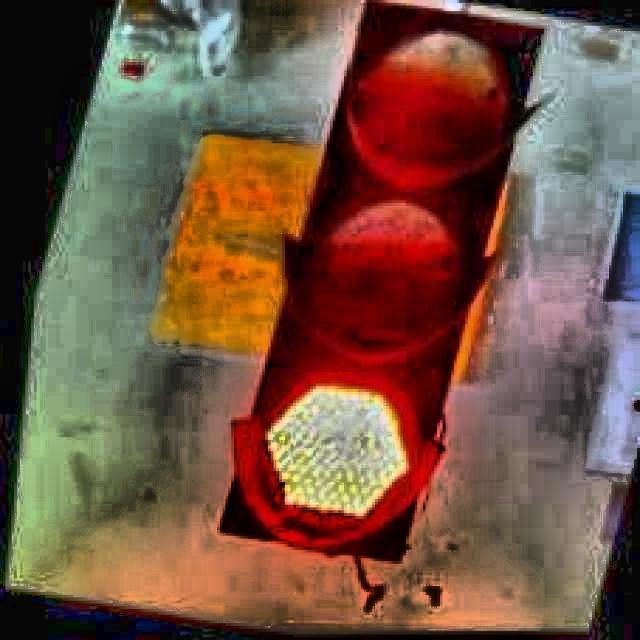red: (204, 1, 546, 574)
